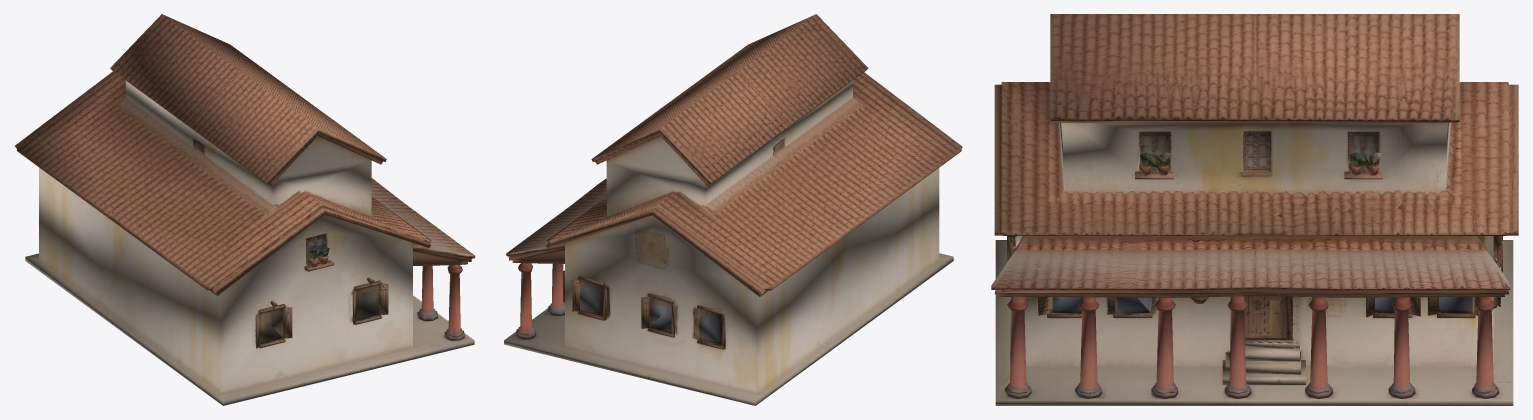
File: tripo_convert_48cd31c4-ec19-47b0-a32c-57b55fb390b5.fbx
3 renders of one model, left to right at view 1: azimuth 30°, elevation 25°; view 2: azimuth 150°, elevation 25°; view 3: azimuth 270°, elevation 25°, orthographic. The views are drawn at different scales.
Parts seen in each view (by area): view 1: tripo_node_48cd31c4; view 2: tripo_node_48cd31c4; view 3: tripo_node_48cd31c4.
Part boxes in pixels (x1,y1,x2,y2): tripo_node_48cd31c4: (14, 14, 475, 405); tripo_node_48cd31c4: (504, 14, 962, 405); tripo_node_48cd31c4: (991, 14, 1518, 405).
Bounding box in the file's own units: 0.7559 × 0.6387 × 0.998.
